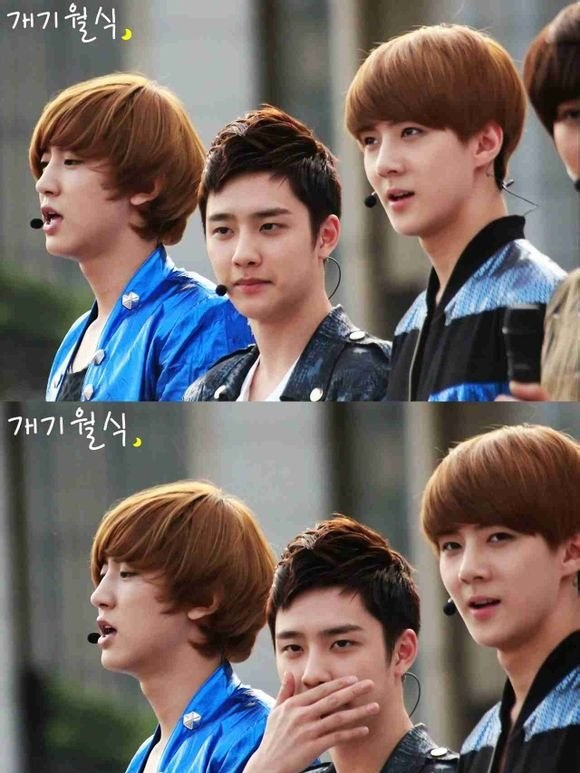face: (437, 482, 553, 648), (360, 75, 467, 237), (275, 584, 384, 741), (205, 168, 311, 317), (93, 522, 175, 669), (36, 114, 116, 254)
